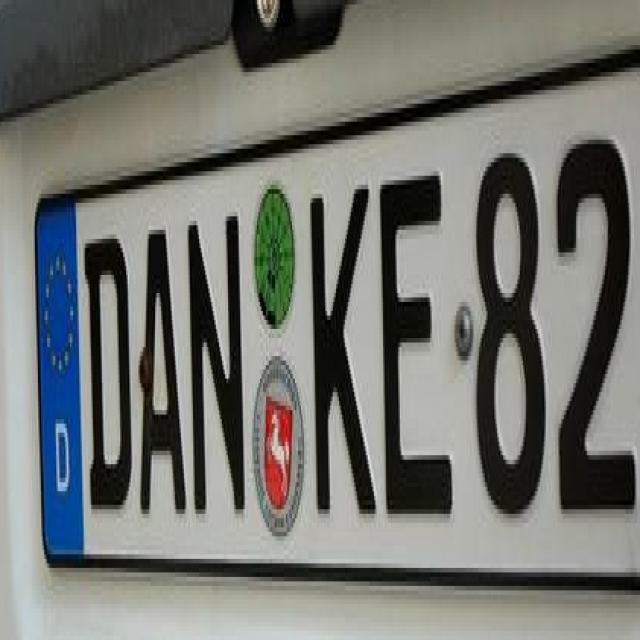Allemagne: (34, 205, 87, 554)
EU: (34, 56, 638, 576)
